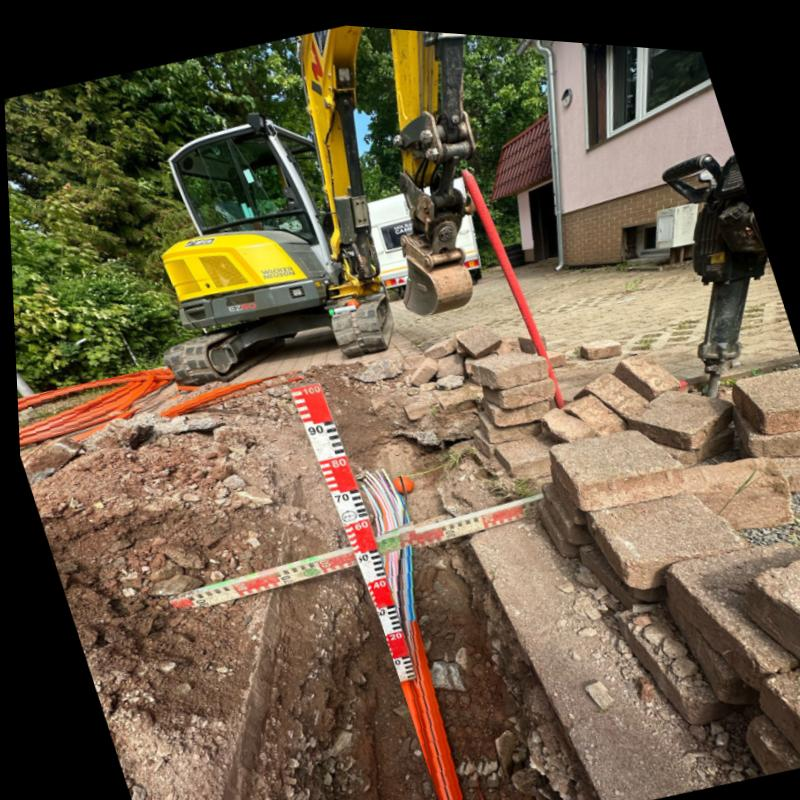Kugelmarker: (388, 470, 410, 486)
Orang-Speednetrohrchen: (373, 497, 463, 800), (14, 367, 170, 443), (157, 365, 298, 414)
